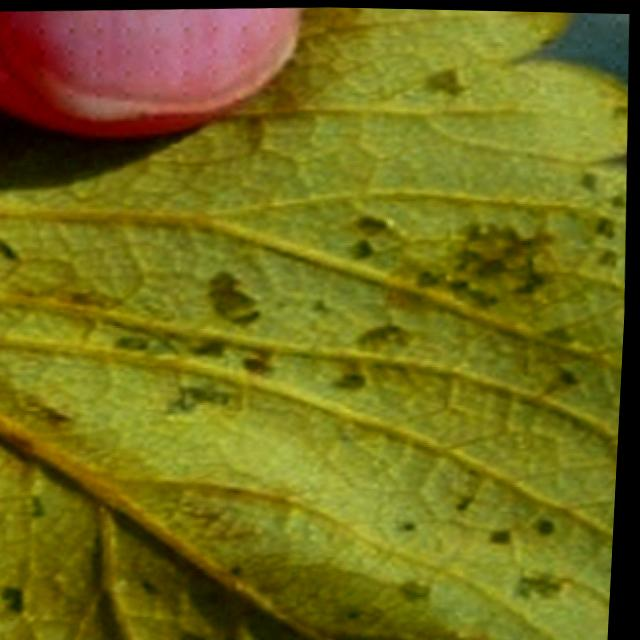Angular Leafspot: (0, 40, 629, 640)
